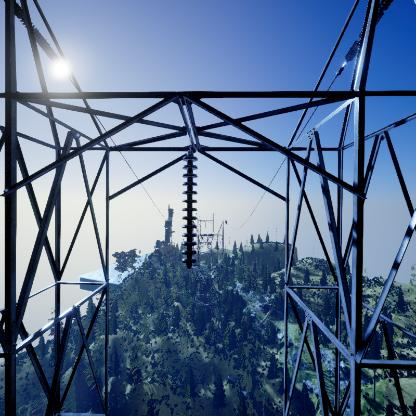insulator: (182, 153, 199, 269)
